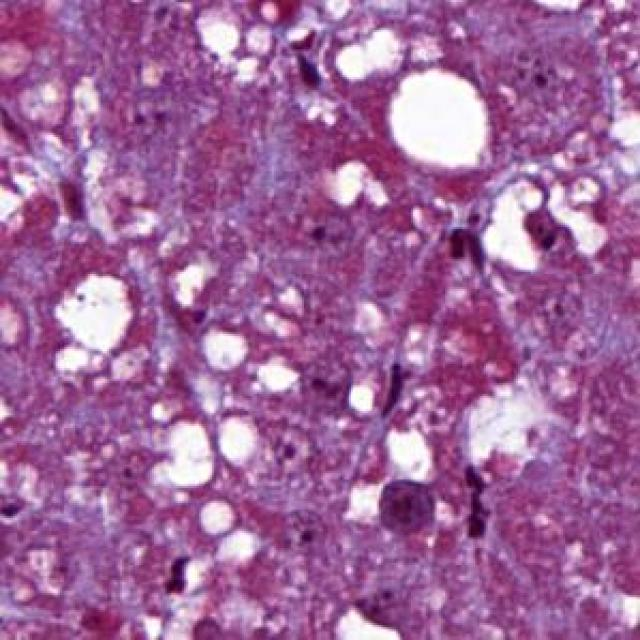inflammation: (372, 473, 448, 544), (441, 216, 492, 270), (520, 199, 563, 261), (286, 54, 330, 102)
